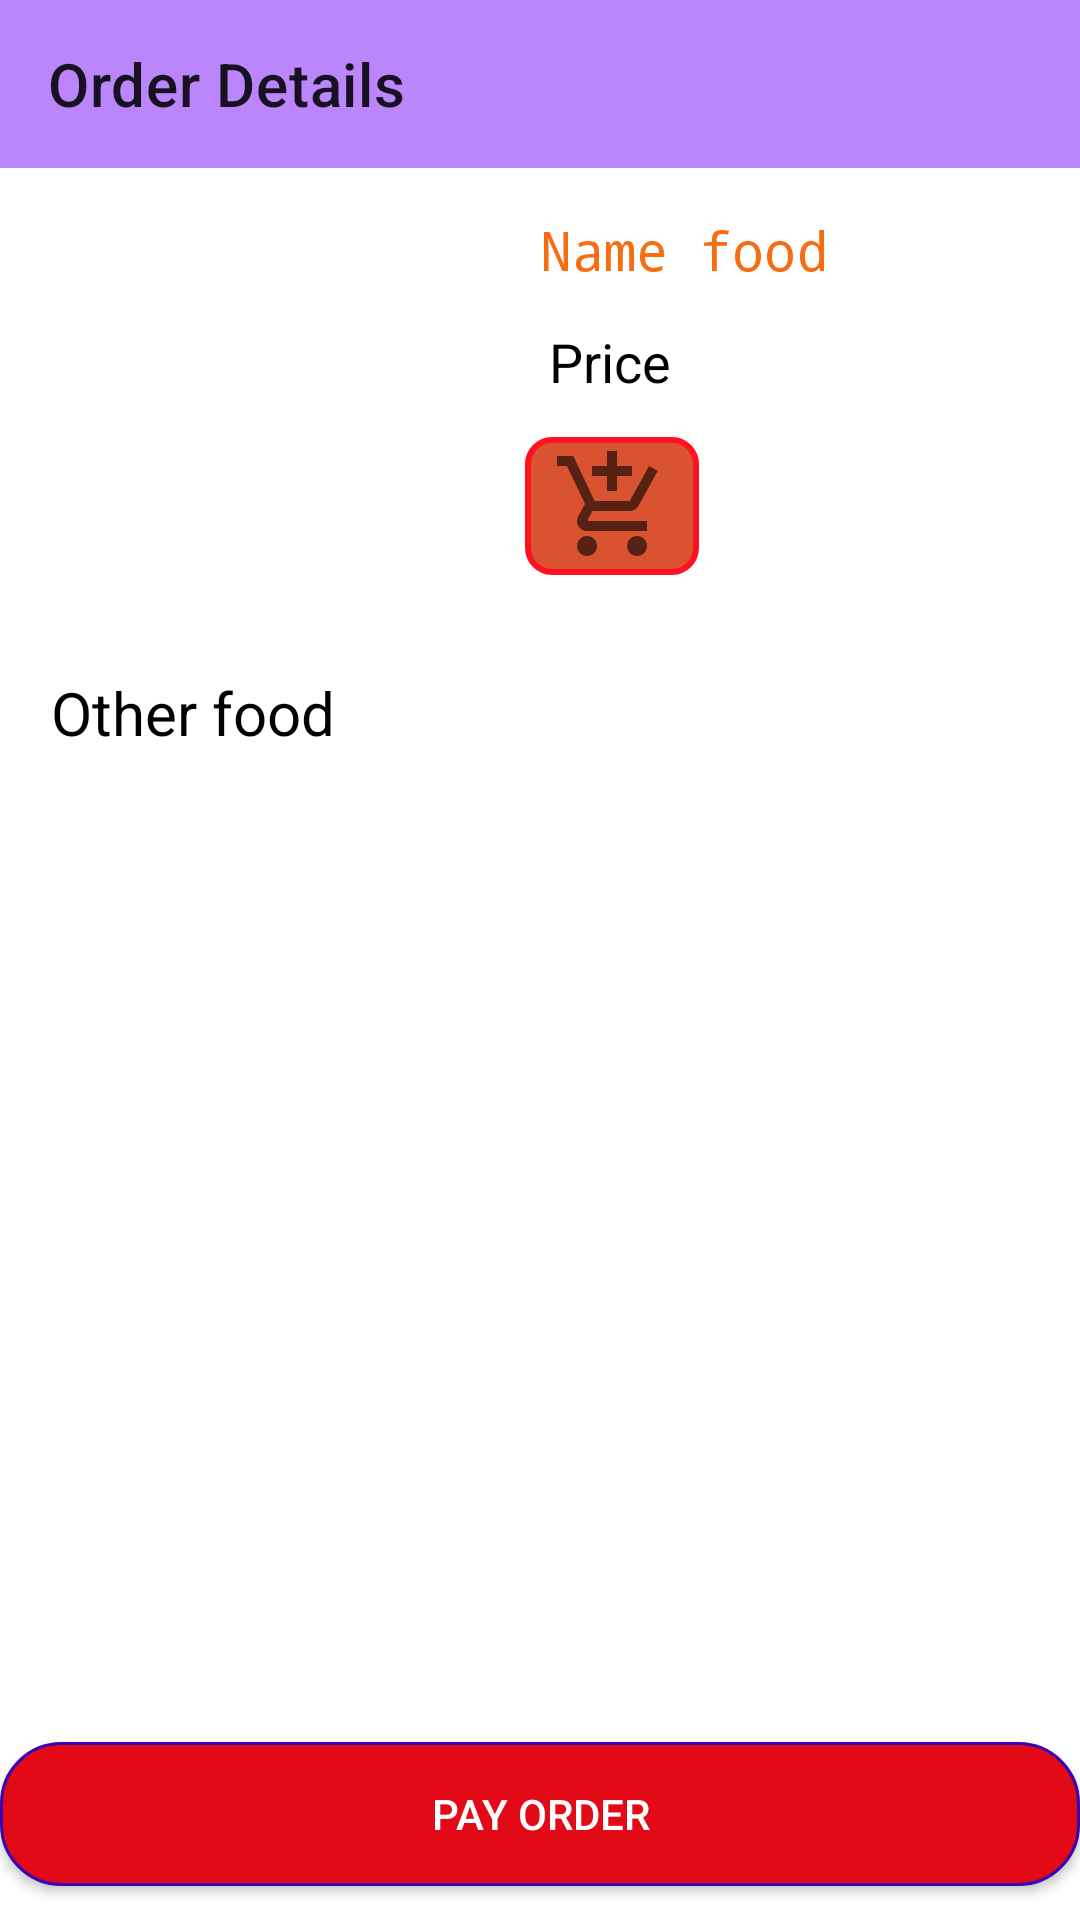

Locate icon controls on the screen. Image size 1080px x 1920px, boxes as {"x1": x1, "y1": y1, "x2": x2, "y2": y2}.
add shopping cart: {"x1": 525, "y1": 437, "x2": 699, "y2": 575}
